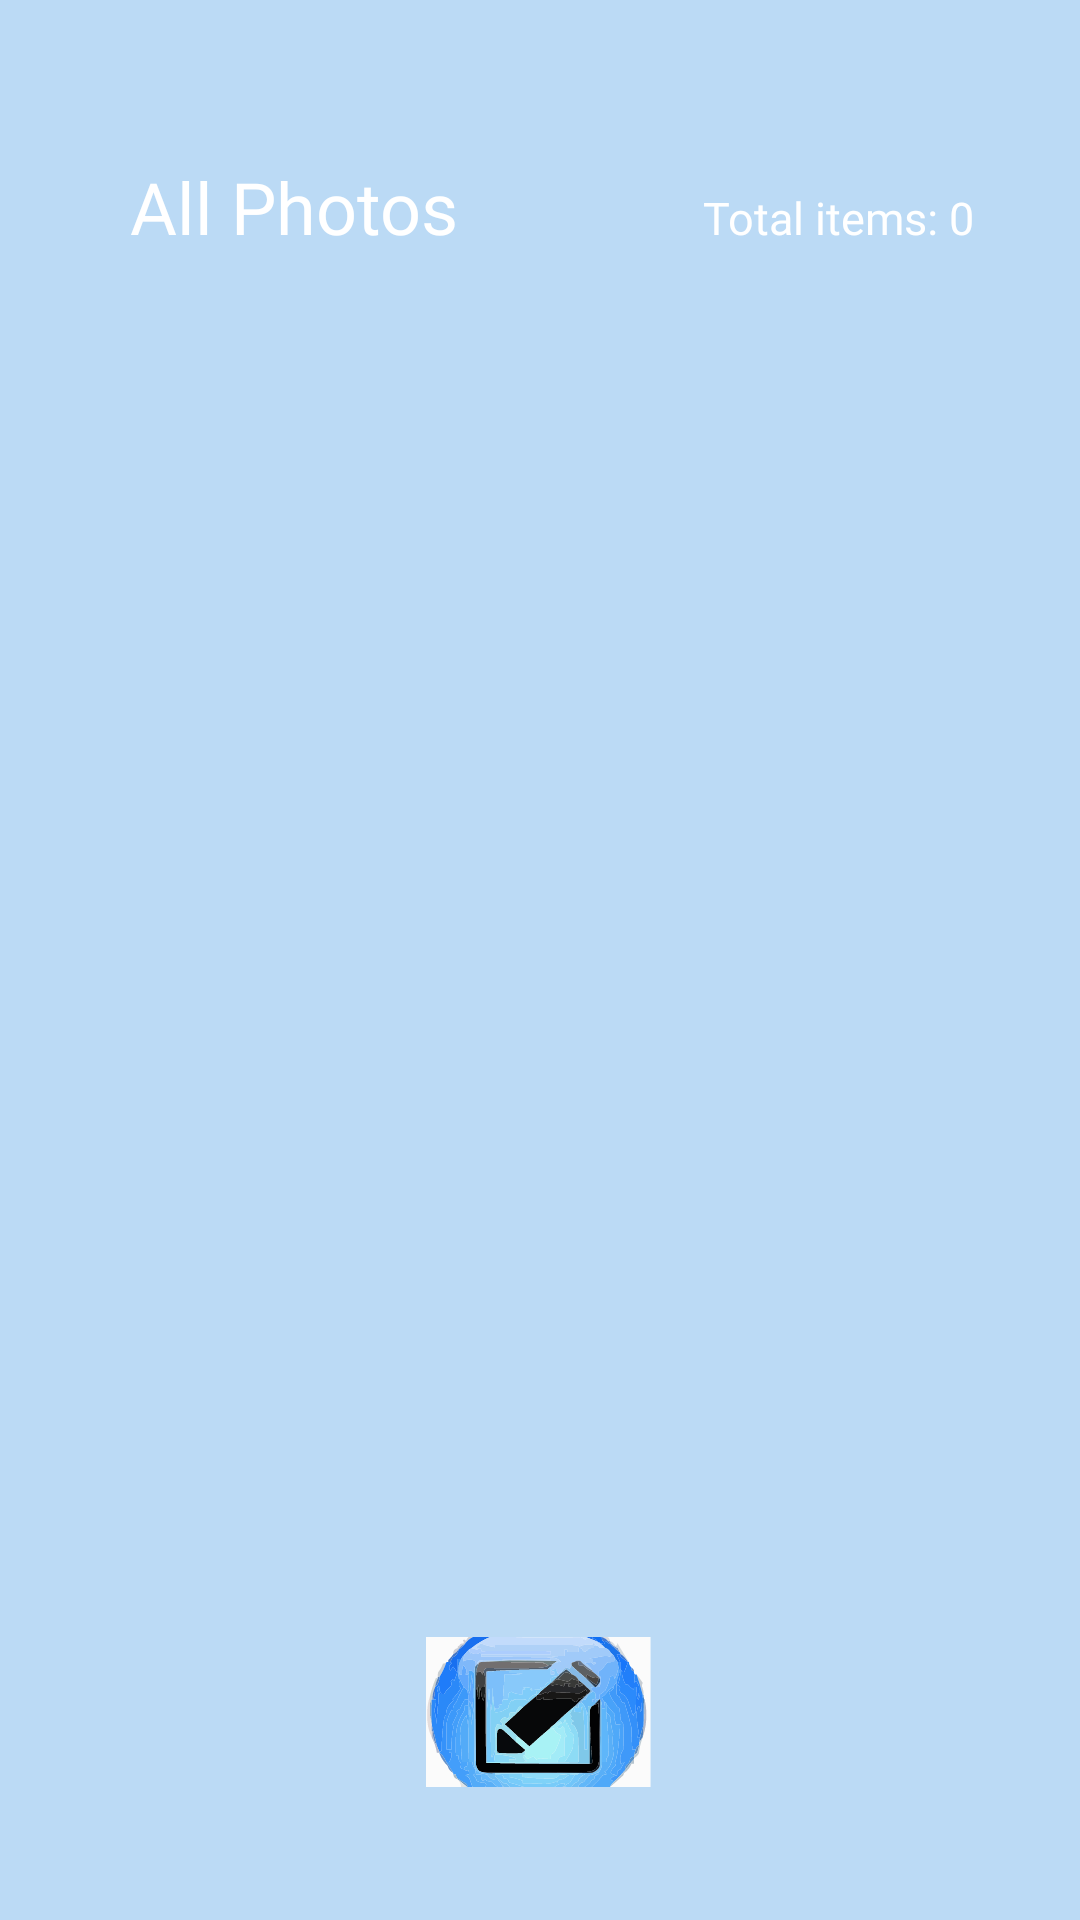

Where to tap for icons on this 1080px×1920px app screen, as point (x, y):
edit: point (538, 1712)
